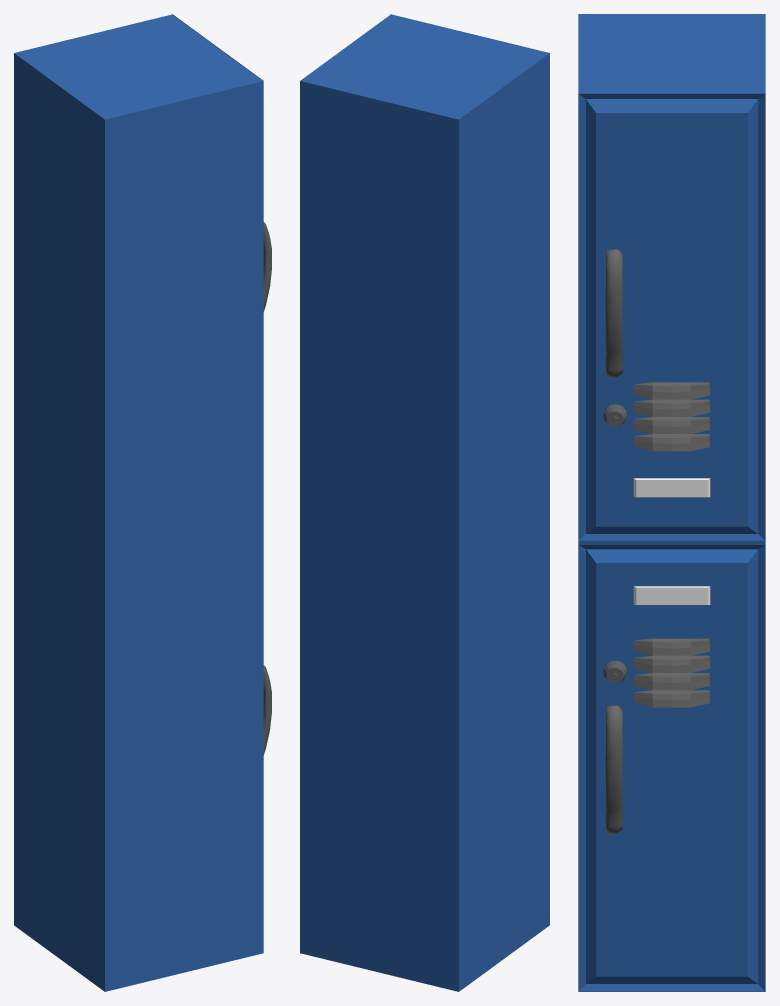
The model's file is ArmarioV2.fbx.
3 renders of one model, left to right at view 1: azimuth 30°, elevation 25°; view 2: azimuth 150°, elevation 25°; view 3: azimuth 270°, elevation 25°, orthographic. The views are drawn at different scales.
Parts seen in each view (by area): view 1: Plane.002, Plane.003, Plane.004; view 2: Plane.002; view 3: Plane.003, Plane.004, Plane.002.
Boxes of the visible parts, bbox=[...] form: Plane.002: bbox=[14, 14, 263, 991]; Plane.003: bbox=[172, 14, 271, 311]; Plane.004: bbox=[263, 665, 271, 754]; Plane.002: bbox=[300, 14, 549, 991]; Plane.003: bbox=[578, 93, 765, 540]; Plane.004: bbox=[578, 545, 765, 991]; Plane.002: bbox=[578, 14, 765, 544].
Bounding box in the file's own units: 284 × 1304 × 246.
